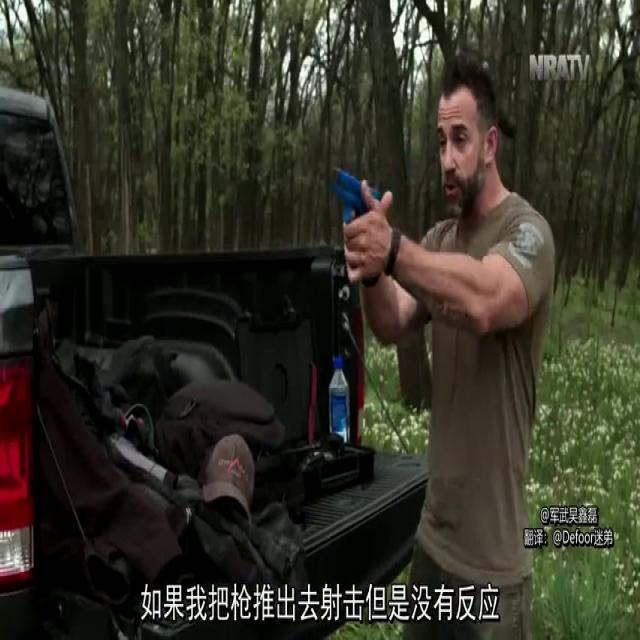gun-knife-thesis - v11 Yolov5 augmented: (328, 165, 396, 271)
